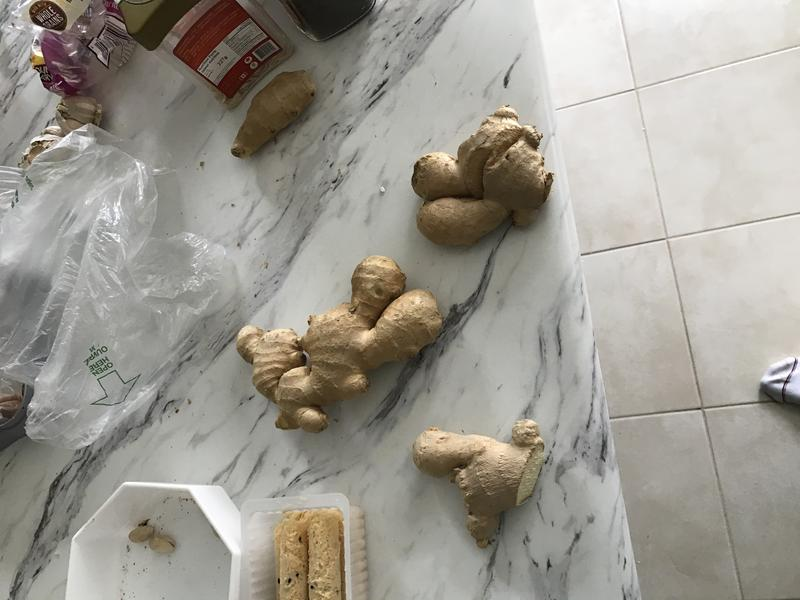ginger: (218, 247, 450, 445), (407, 100, 562, 250), (401, 407, 551, 548)
